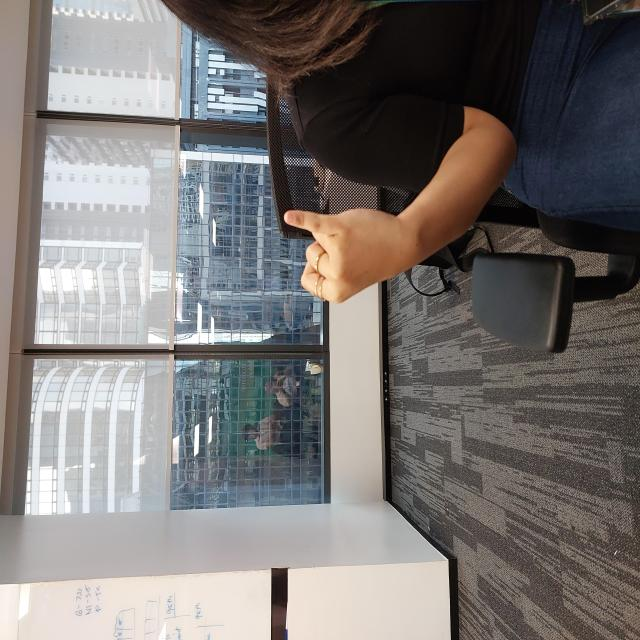J: (333, 282, 436, 418)
